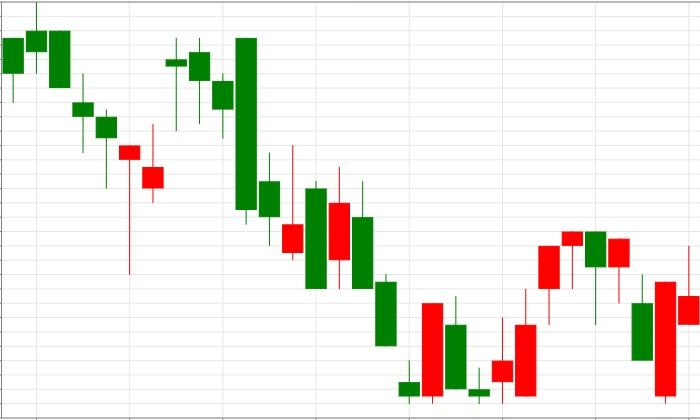bullish_engulfing_rise: (352, 181, 443, 405)
hanging_man_fall: (492, 232, 606, 404)
